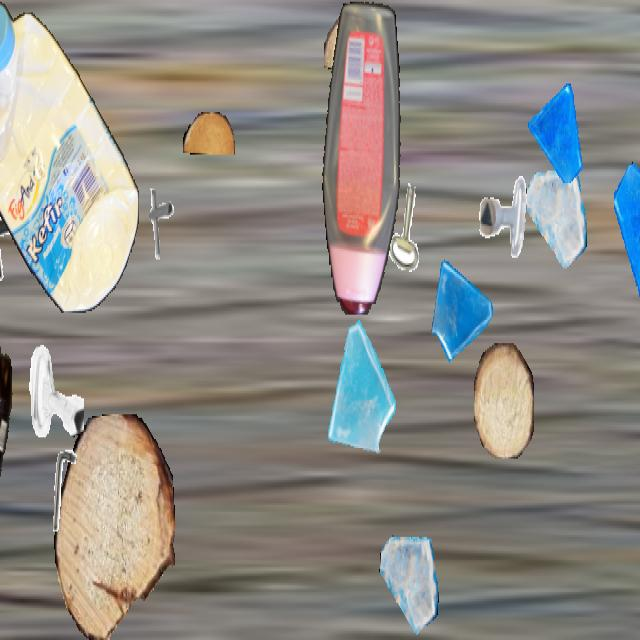glass: (317, 318, 397, 461), (429, 249, 495, 366), (526, 165, 586, 272), (379, 532, 439, 638), (528, 82, 584, 181), (614, 158, 640, 308)
metal: (26, 340, 84, 442), (381, 178, 437, 277), (39, 442, 93, 538), (478, 172, 530, 265), (0, 176, 37, 283), (137, 183, 181, 261)
plastic: (0, 2, 139, 311), (321, 2, 405, 314), (0, 336, 19, 638)
wood: (54, 414, 174, 638), (474, 343, 534, 457), (324, 16, 398, 73), (183, 112, 235, 155)
